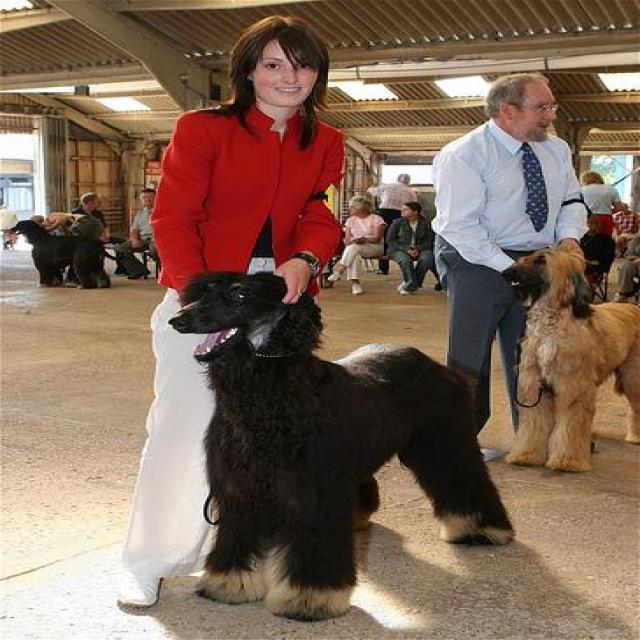afghan_hound: (160, 266, 519, 624), (502, 238, 636, 476), (6, 219, 118, 294)
